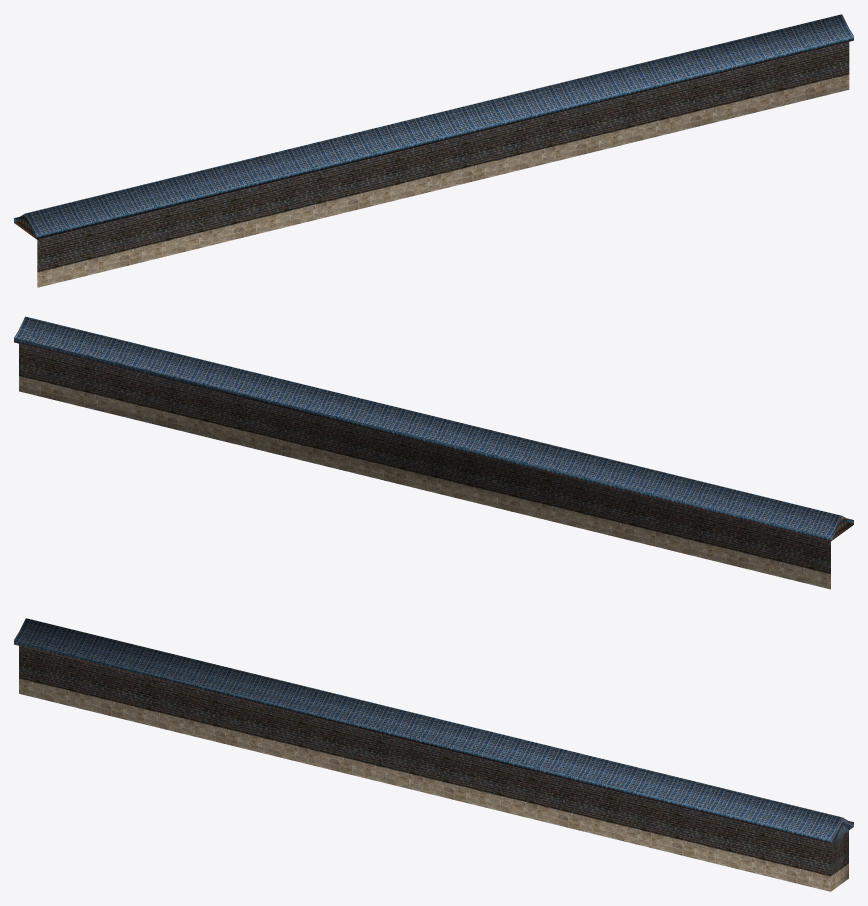
The model's file is cj5_tem_rightdam.glb.
3 views of the same model, one above another, from view 1: azimuth 30°, elevation 25°; view 2: azimuth 150°, elevation 25°; view 3: azimuth 330°, elevation 25° (orthographic).
Visible parts, largest first — view 1: CJ5_tem_rightdam_wall, CJ5_tem_rightdam_roof; view 2: CJ5_tem_rightdam_wall, CJ5_tem_rightdam_roof; view 3: CJ5_tem_rightdam_wall, CJ5_tem_rightdam_roof.
Boxes of the visible parts, x1,y1,x2,y2 form: CJ5_tem_rightdam_wall: [37, 42, 849, 287]; CJ5_tem_rightdam_roof: [14, 14, 853, 239]; CJ5_tem_rightdam_wall: [19, 343, 830, 589]; CJ5_tem_rightdam_roof: [14, 316, 853, 541]; CJ5_tem_rightdam_wall: [19, 646, 848, 891]; CJ5_tem_rightdam_roof: [14, 618, 853, 843].
Bounding box in the file's own units: 44.91 × 3.57 × 2.21.
Materials: 2 (2 with a texture image).
